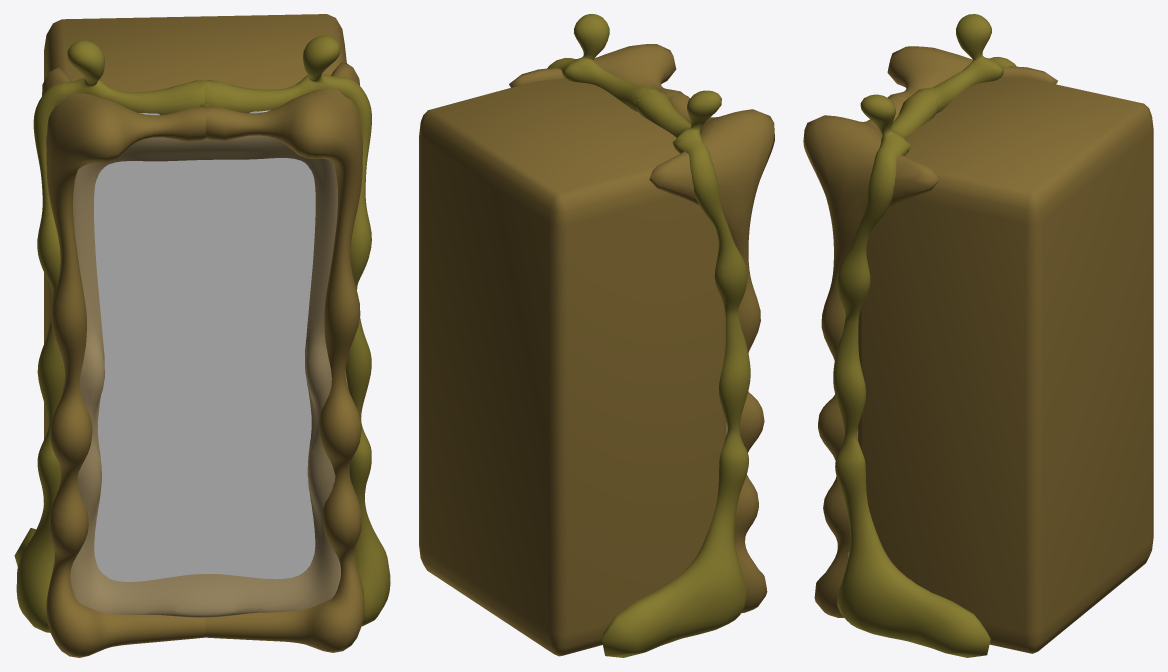
File: SYSTEMESON1.fbx
The picture shows the model from 3 angles, left to right: view 1: azimuth 30°, elevation 25°; view 2: azimuth 150°, elevation 25°; view 3: azimuth 270°, elevation 25°; orthographic projection. The views are drawn at different scales.
Parts seen in each view (by area): view 1: Plane.003; view 2: Plane.003; view 3: Plane.003.
Boxes of the visible parts, x1,y1,x2,y2 form: Plane.003: (14,14,390,657); Plane.003: (419,14,774,657); Plane.003: (803,14,1153,657).
Size of the model in its own units: 925 by 1541 by 930.
